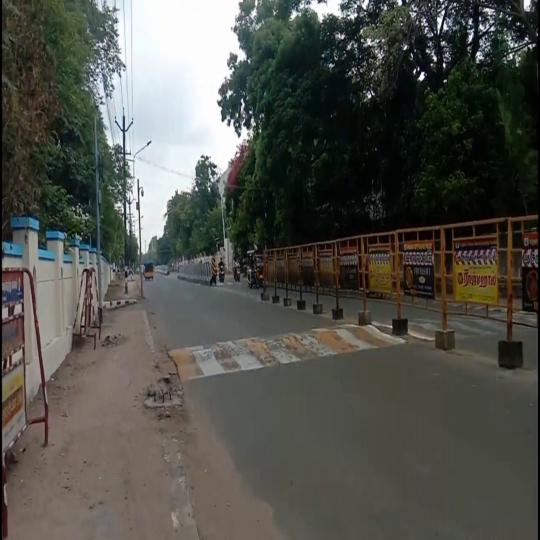Speed Bump: (167, 322, 391, 384), (454, 316, 502, 340), (408, 314, 435, 341)
